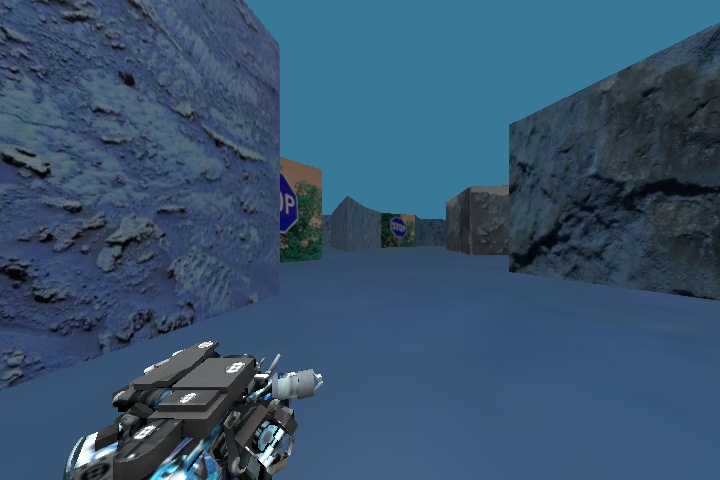stop_sign: (273, 171, 313, 240), (387, 214, 414, 245)
